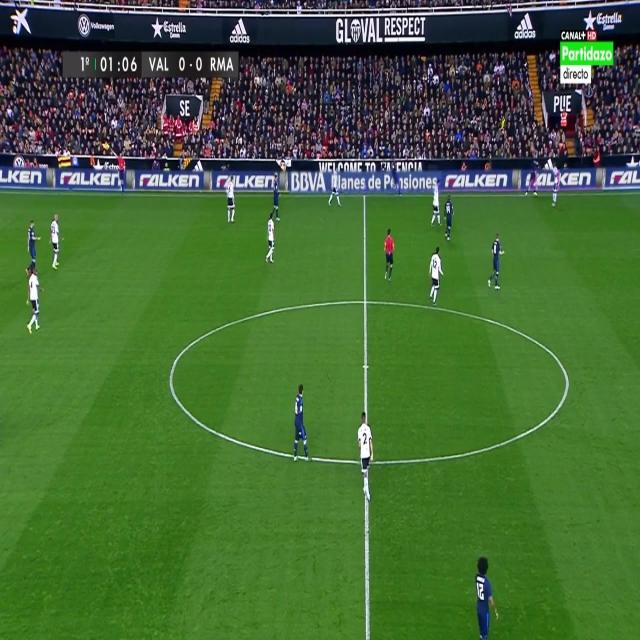Player: (474, 553, 502, 640), (290, 382, 312, 465), (357, 411, 376, 502), (486, 232, 506, 293), (27, 266, 43, 338), (428, 244, 442, 308), (26, 215, 43, 265), (428, 181, 444, 231), (264, 210, 276, 266), (443, 190, 455, 246), (50, 213, 61, 273), (226, 176, 238, 228), (270, 173, 282, 223), (327, 174, 341, 214), (551, 167, 561, 212)
Referee: (382, 225, 399, 283), (118, 150, 126, 200)
